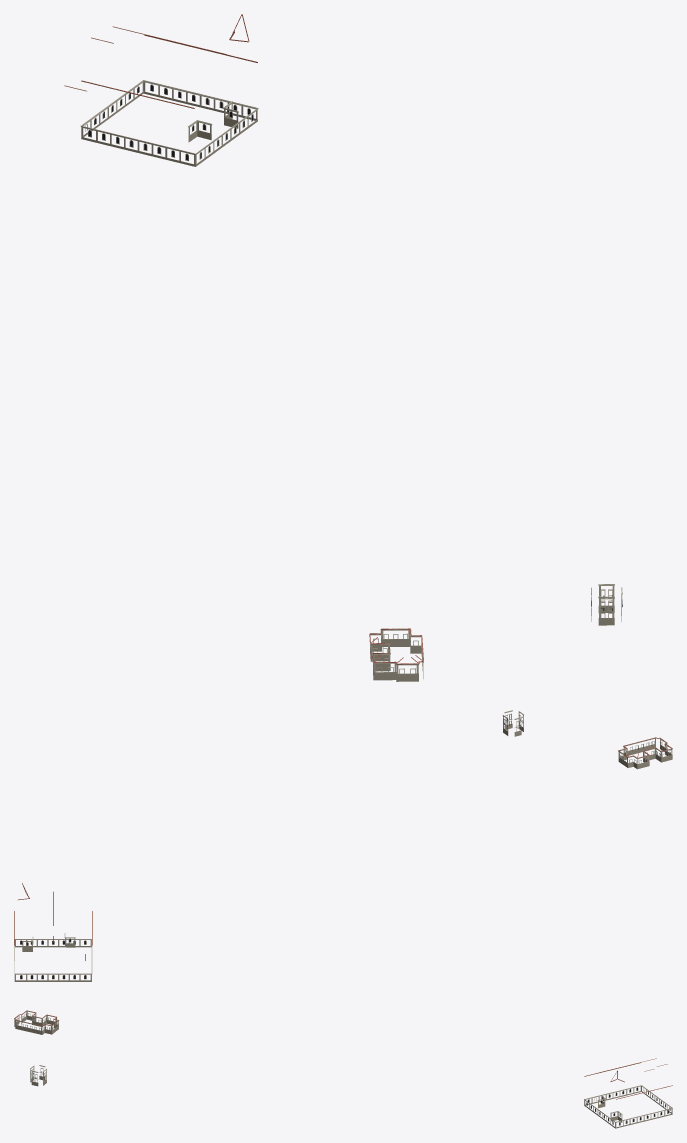
3 renders of one model, top to bottom at view 1: azimuth 30°, elevation 25°; view 2: azimuth 150°, elevation 25°; view 3: azimuth 270°, elevation 25°, orthographic. The views are drawn at different scales.
Parts seen in each view (by area): view 1: detail; view 2: detail; view 3: detail.
Boxes of the visible parts, <box> form: detail: <box>64,14,622,681</box>; detail: <box>14,710,672,981</box>; detail: <box>14,1010,672,1128</box>.
Size of the model in its own units: 179 by 46.5 by 430.
